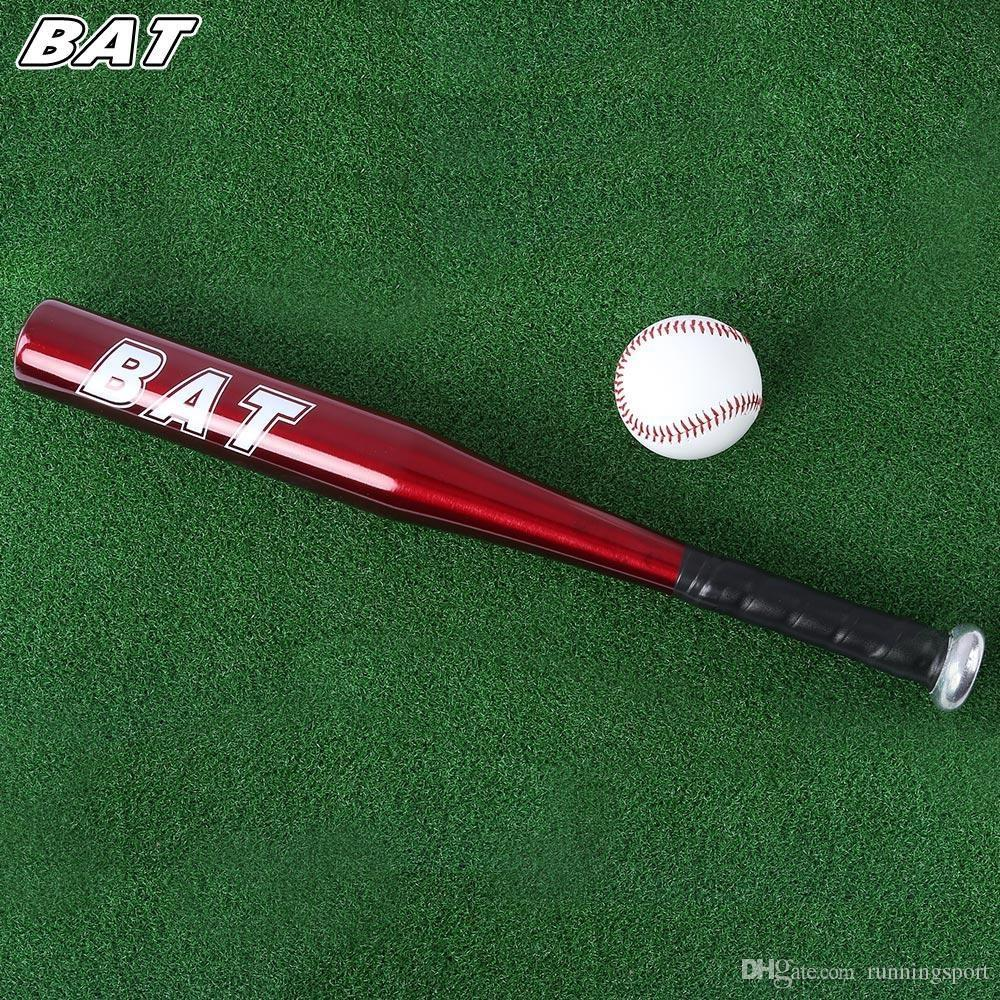Baseball-Bat: (0, 289, 970, 715)
